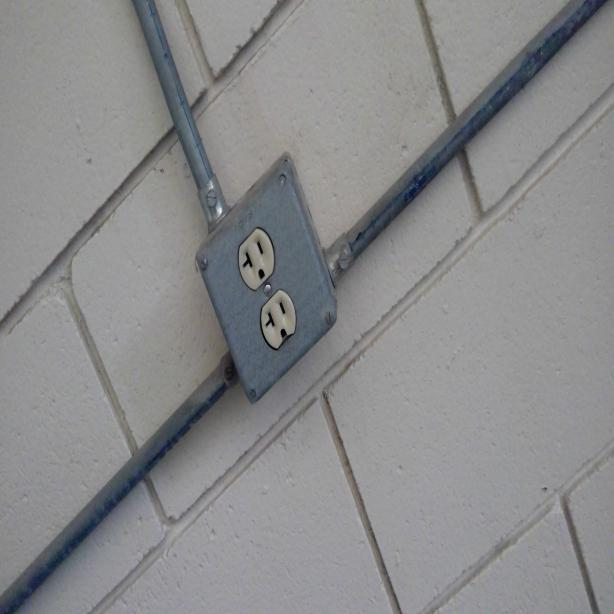typeb: (235, 230, 278, 288), (264, 297, 302, 356)
